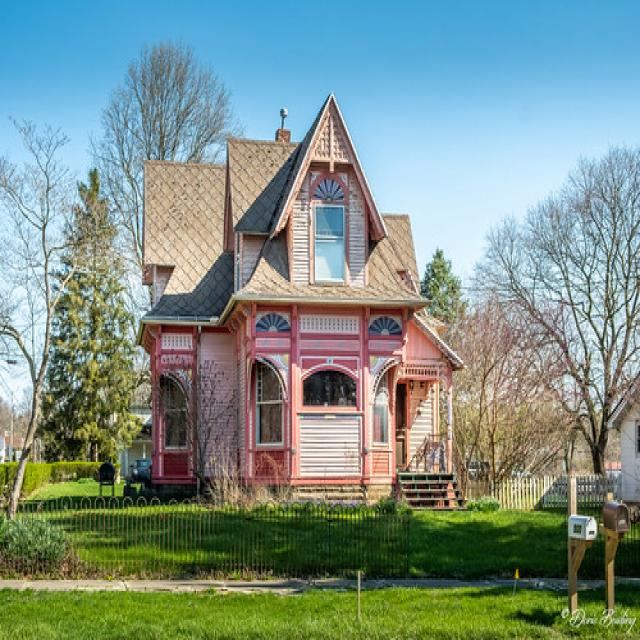Normal_building: (133, 86, 466, 514)
